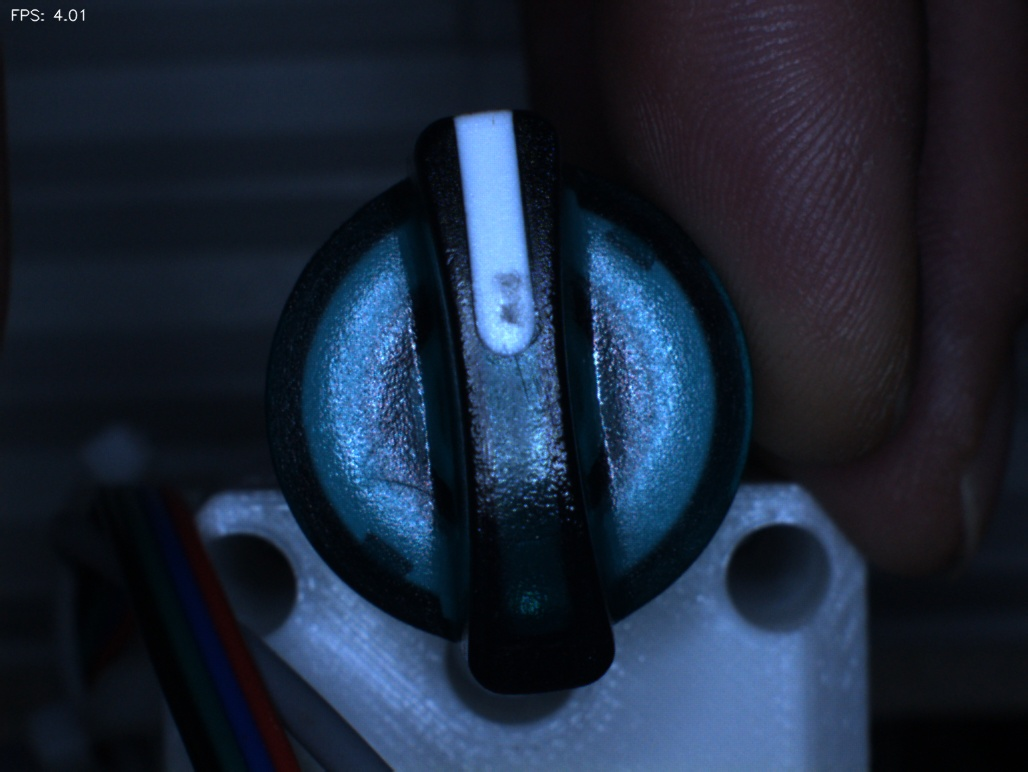PointNoir: (452, 256, 561, 361)
